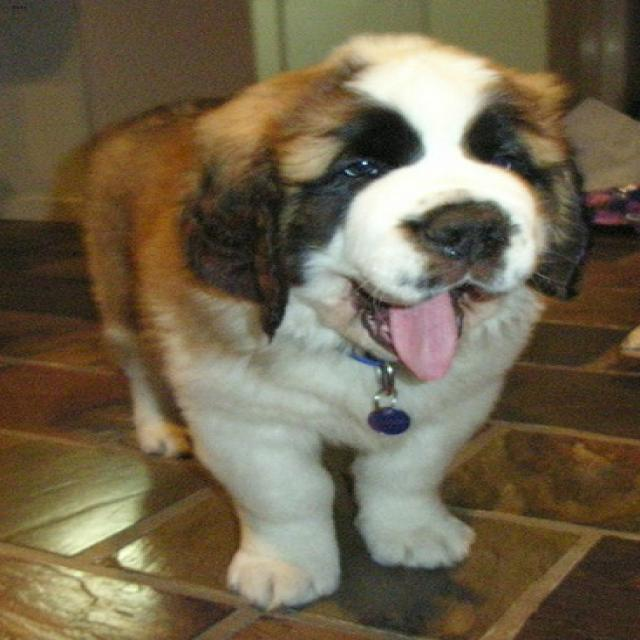dog-saint_bernard: (71, 19, 612, 612)
